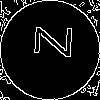Z: (25, 25, 72, 58)
